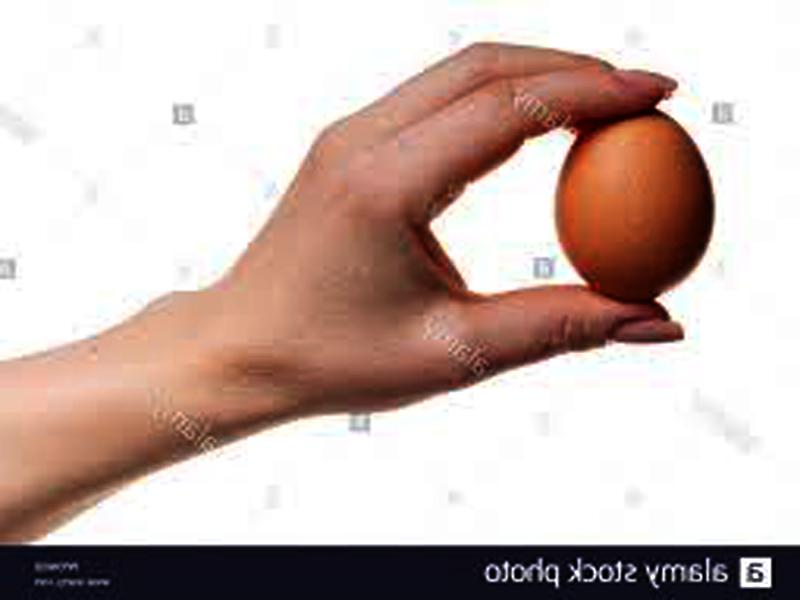Eggs: (548, 109, 714, 300)
